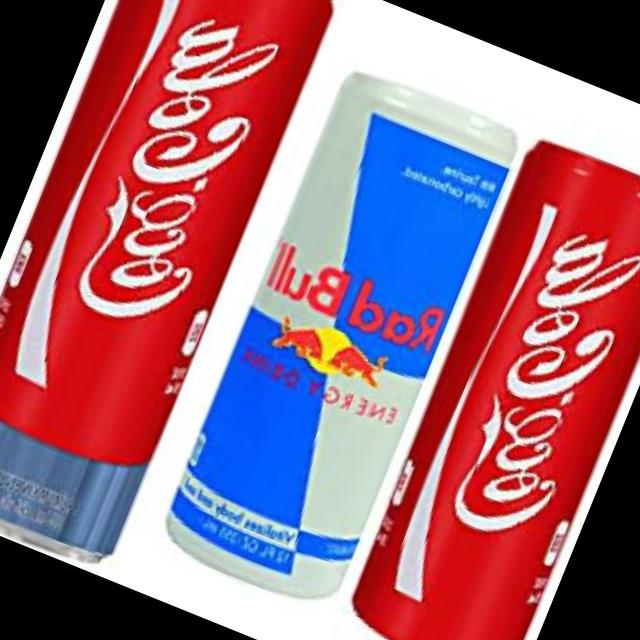Kaleng: (153, 59, 528, 616), (0, 0, 343, 576), (338, 131, 640, 640)
